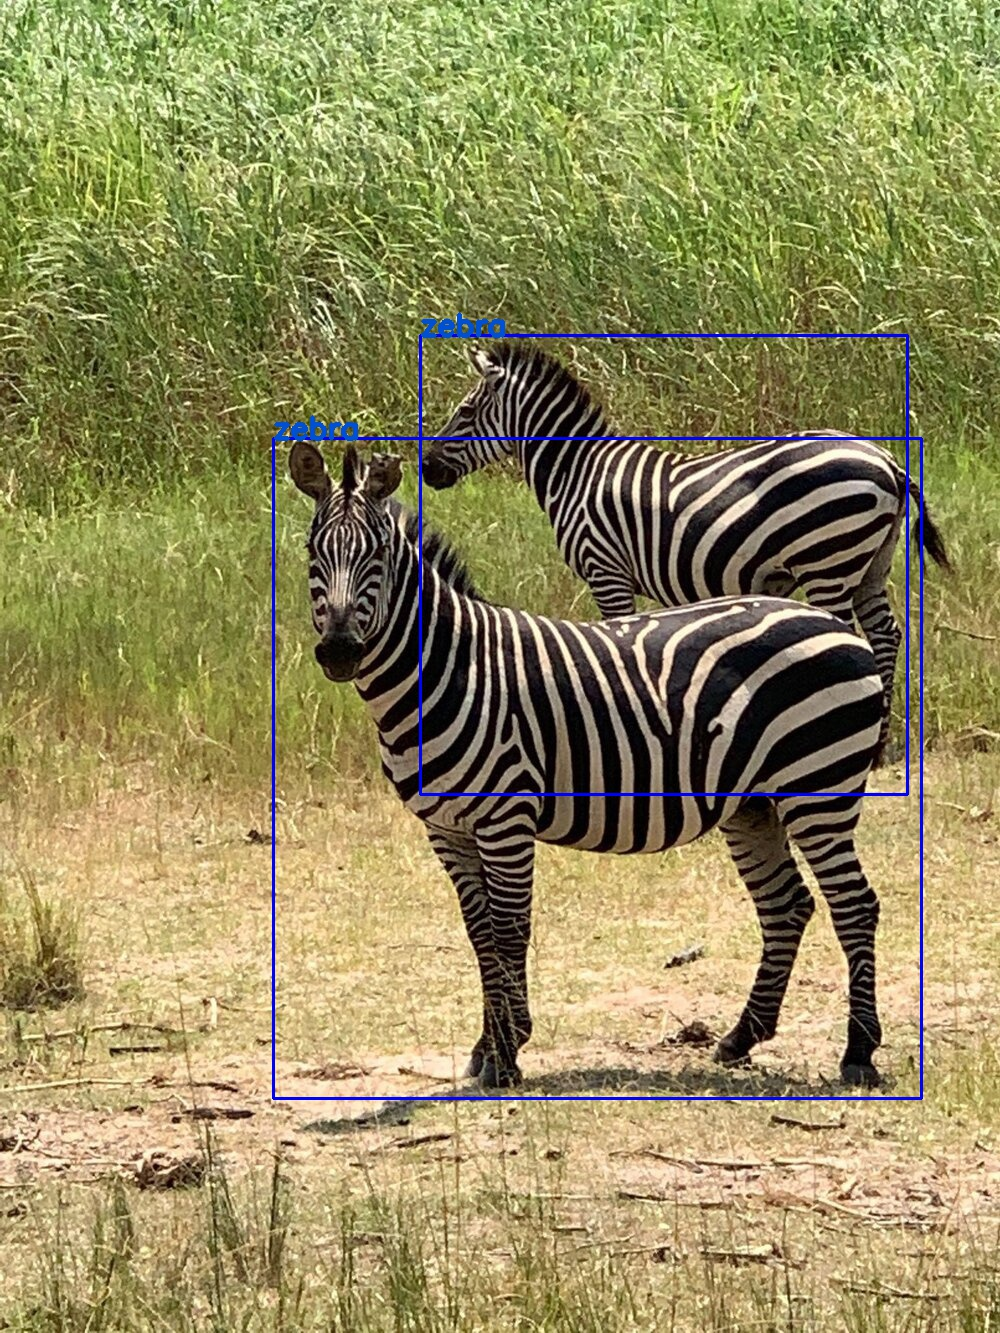zebra: (273, 437, 921, 1098), (420, 335, 907, 794)
